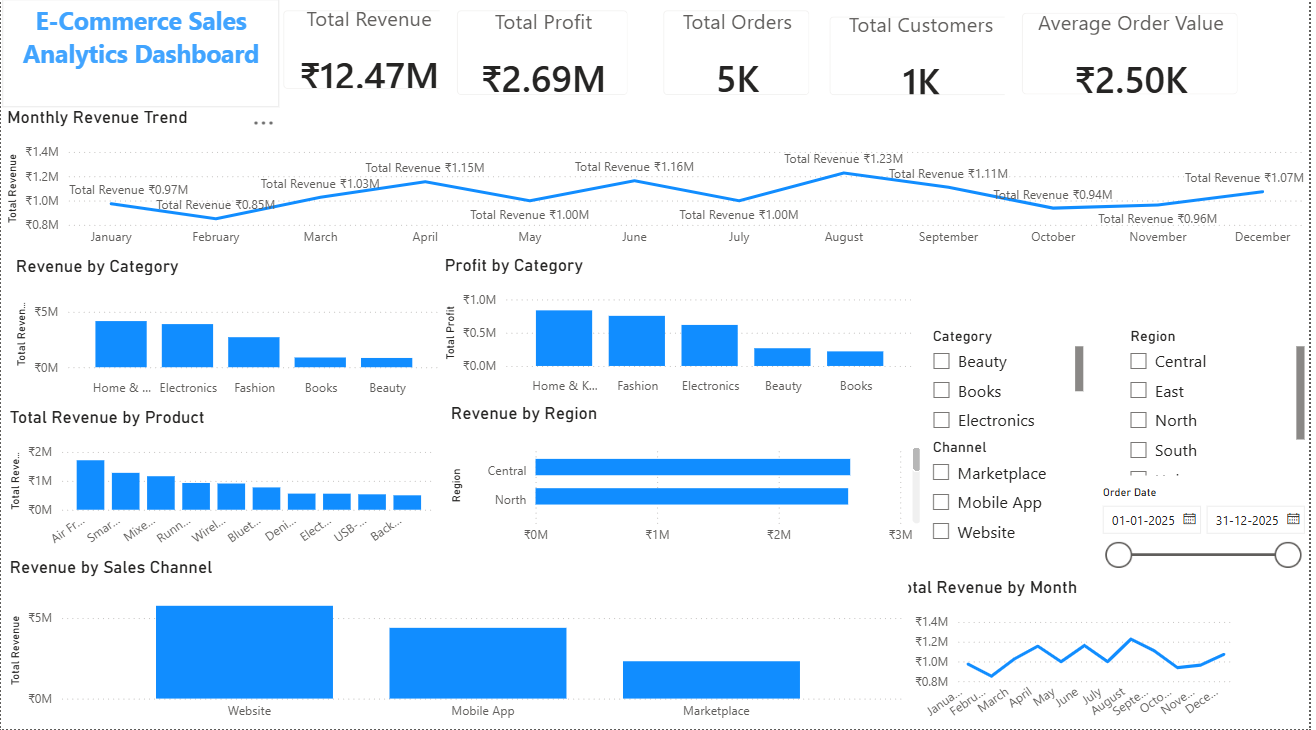

The dashboard page shown, as its layout file describes it:
{"tool":"powerbi","page":{"name":"Overview","canvas":[1280,720],"ordinal":0},"visuals":[{"type":"cardVisual","title":"Total Revenue","fields":{"Data":["ecommerce_sales_cleaned.Total Revenue"]},"box":[259.2,0,200.5,111.3],"z":0},{"type":"cardVisual","title":"Total Revenue","fields":{"Data":["ecommerce_sales_cleaned.Total Profit"]},"box":[429.2,0,201.8,117.4],"z":1000},{"type":"cardVisual","title":"Total Revenue","fields":{"Data":["ecommerce_sales_cleaned.Total Orders"]},"box":[631,0,177.3,117.4],"z":2000},{"type":"cardVisual","title":"Total Revenue","fields":{"Data":["ecommerce_sales_cleaned.Total Customers"]},"box":[793.6,6.1,211.6,111.3],"z":3000},{"type":"cardVisual","title":"Total Revenue","fields":{"Data":["ecommerce_sales_cleaned.Average Order Value"]},"box":[981.9,2.4,245.8,114.9],"z":4000},{"type":"lineChart","title":"Monthly Revenue Trend","fields":{"Category":["ecommerce_sales_cleaned.Order Date.Variation.Date Hierarchy.Month","ecommerce_sales_cleaned.Order Date.Variation.Date Hierarchy.Day"],"Y":["ecommerce_sales_cleaned.Total Revenue"]},"box":[1.2,111.3,1279.1,145.5],"z":5000},{"type":"lineChart","fields":{"Category":["ecommerce_sales_cleaned.Order Date.Variation.Date Hierarchy.Month"],"Y":["ecommerce_sales_cleaned.Total Revenue"]},"box":[869.4,571.1,341.2,149.2],"z":6000},{"type":"clusteredColumnChart","title":"Revenue by Category","fields":{"Category":["ecommerce_sales_cleaned.Category"],"Y":["ecommerce_sales_cleaned.Total Revenue"]},"box":[9.8,256.8,425.5,144.3],"z":7000},{"type":"clusteredColumnChart","title":"Profit by Category","fields":{"Category":["ecommerce_sales_cleaned.Category"],"Y":["ecommerce_sales_cleaned.Total Profit"]},"box":[429.2,255.6,469.6,144.3],"z":8000},{"type":"columnChart","fields":{"Category":["ecommerce_sales_cleaned.Product"],"Y":["ecommerce_sales_cleaned.Total Revenue"]},"box":[3.7,404.8,426.8,146.7],"z":9000},{"type":"barChart","title":"Revenue by Region","fields":{"Y":["ecommerce_sales_cleaned.Total Revenue"],"Category":["ecommerce_sales_cleaned.Region"]},"box":[435.3,401.1,469.6,146.7],"z":10000},{"type":"columnChart","title":"Revenue by Sales Channel","fields":{"Category":["ecommerce_sales_cleaned.Channel"],"Y":["ecommerce_sales_cleaned.Total Revenue"]},"box":[3.7,551.5,884.1,168.8],"z":11000},{"type":"slicer","fields":{"Values":["ecommerce_sales_cleaned.Order Date"]},"box":[1065.1,476.9,215.2,114.9],"z":12000},{"type":"slicer","fields":{"Values":["ecommerce_sales_cleaned.Category"]},"box":[898.8,321.6,165.1,108.8],"z":13000},{"type":"slicer","fields":{"Values":["ecommerce_sales_cleaned.Region"]},"box":[1092,321.6,188.3,155.3],"z":14000},{"type":"slicer","fields":{"Values":["ecommerce_sales_cleaned.Channel"]},"box":[898.8,430.4,165.1,121.1],"z":15000},{"type":"textbox","box":[1.2,6.1,271.5,105.2],"z":16000}]}

Visuals, with their boxes in screenshot pixels (x1, y1, x2, y2), scaled from the page's 1280x720 canvas onto the 1316x730 screenshot:
"Total Revenue" cardVisual: 266/0/473/113
"Total Revenue" cardVisual: 441/0/649/119
"Total Revenue" cardVisual: 649/0/831/119
"Total Revenue" cardVisual: 816/6/1033/119
"Total Revenue" cardVisual: 1010/2/1262/119
"Monthly Revenue Trend" lineChart: 1/113/1315/260
lineChart - ecommerce_sales_cleaned.Order Date.Variation.Date Hierarchy.Month x ecommerce_sales_cleaned.Total Revenue: 894/579/1245/729
"Revenue by Category" clusteredColumnChart: 10/260/448/407
"Profit by Category" clusteredColumnChart: 441/259/924/405
columnChart - ecommerce_sales_cleaned.Product x ecommerce_sales_cleaned.Total Revenue: 4/410/443/559
"Revenue by Region" barChart: 448/407/930/555
"Revenue by Sales Channel" columnChart: 4/559/913/729
slicer - ecommerce_sales_cleaned.Order Date: 1095/484/1315/600
slicer - ecommerce_sales_cleaned.Category: 924/326/1094/436
slicer - ecommerce_sales_cleaned.Region: 1123/326/1315/484
slicer - ecommerce_sales_cleaned.Channel: 924/436/1094/559
textbox: 1/6/280/113
